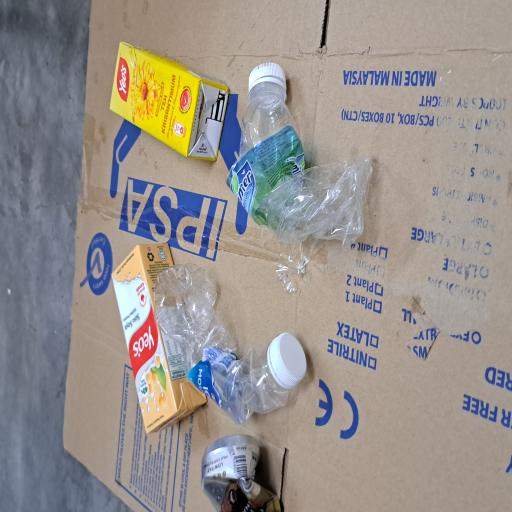can: (0, 268, 59, 377)
cardboard: (0, 81, 384, 512)
drink carton: (58, 148, 203, 277), (262, 146, 353, 306)
plastic bottle: (198, 300, 323, 498), (66, 205, 188, 386)
plastic bottle cap: (94, 358, 136, 410), (310, 331, 338, 382)
